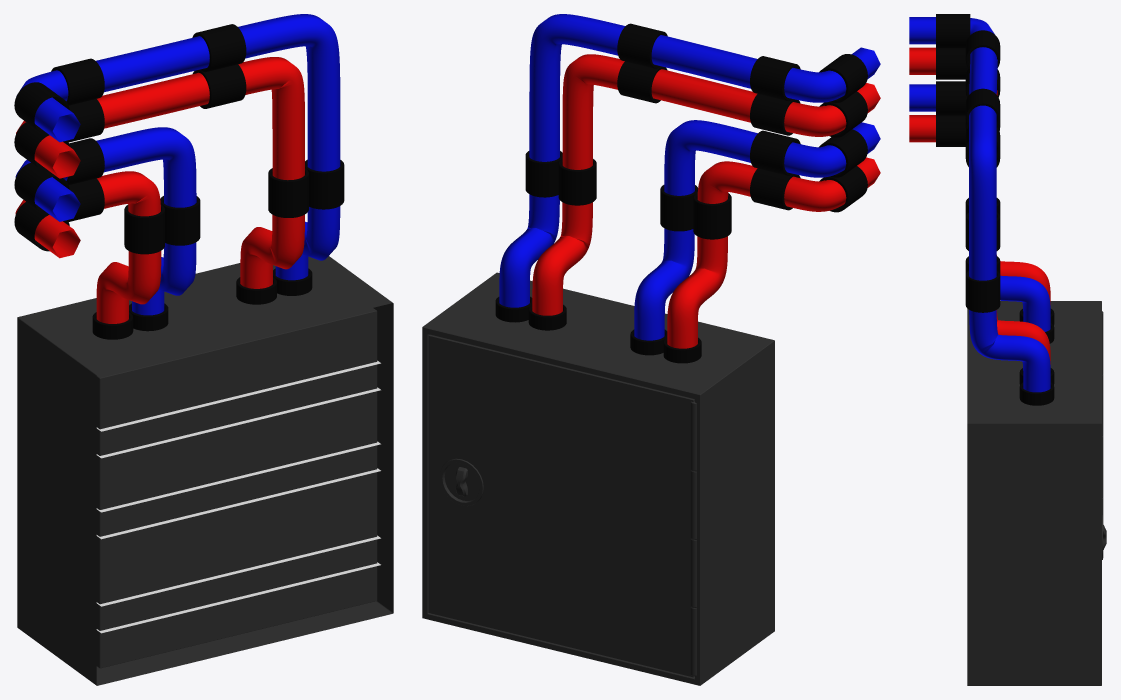
The model's file is fuxebox.fbx.
The picture shows the model from 3 angles, left to right: view 1: azimuth 30°, elevation 25°; view 2: azimuth 150°, elevation 25°; view 3: azimuth 270°, elevation 25°; orthographic projection. The views are drawn at different scales.
Parts seen in each view (by area): view 1: fusebox.001, pelectric wires.001; view 2: fuxebox door.001, fusebox.001, pelectric wires.001; view 3: fusebox.001, pelectric wires.001.
Boxes of the visible parts, bbox=[...] form: fusebox.001: bbox=[14, 24, 393, 685]; pelectric wires.001: bbox=[15, 14, 340, 323]; fuxebox door.001: bbox=[428, 334, 694, 677]; fusebox.001: bbox=[422, 23, 867, 685]; pelectric wires.001: bbox=[499, 14, 880, 348]; fusebox.001: bbox=[936, 14, 1103, 685]; pelectric wires.001: bbox=[909, 17, 1050, 392].
Size of the model in its own units: 107 by 167 by 57.4.
